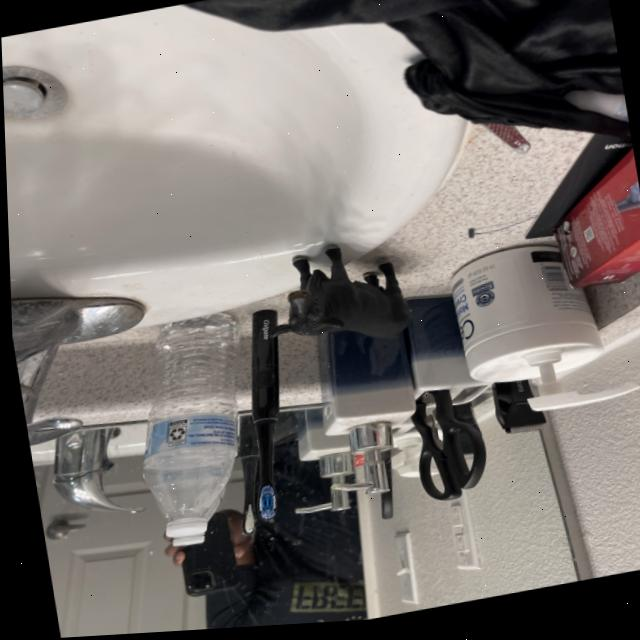cow: (267, 246, 411, 347)
